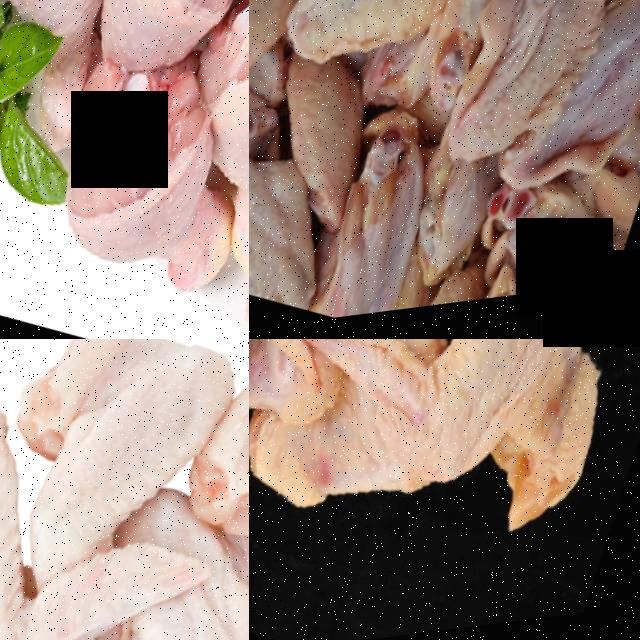chicken thigh: (20, 114, 245, 324), (153, 0, 249, 292), (66, 0, 249, 102)
chicken wing: (272, 339, 640, 559), (0, 385, 235, 640), (157, 339, 249, 640)
